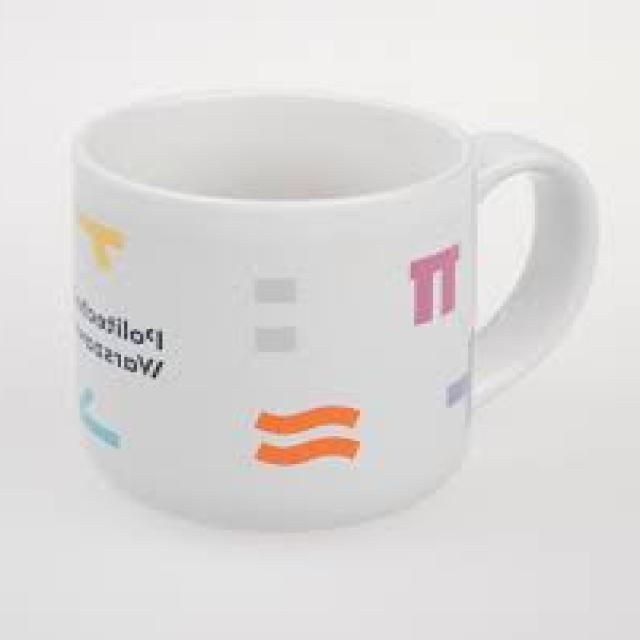Coffee Mug: (71, 94, 605, 529)
